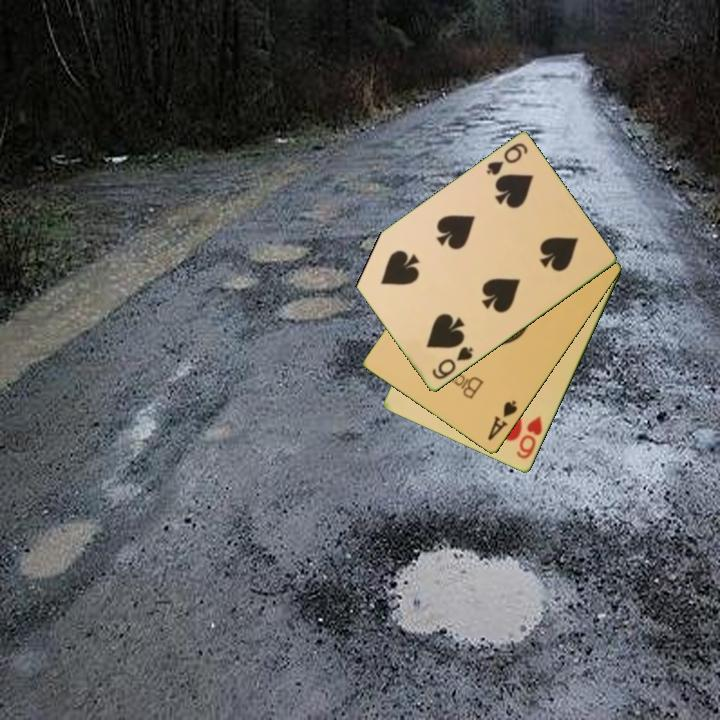6h: (513, 413, 545, 462)
6s: (428, 343, 476, 383), (483, 140, 531, 179)
As: (484, 397, 520, 444)
